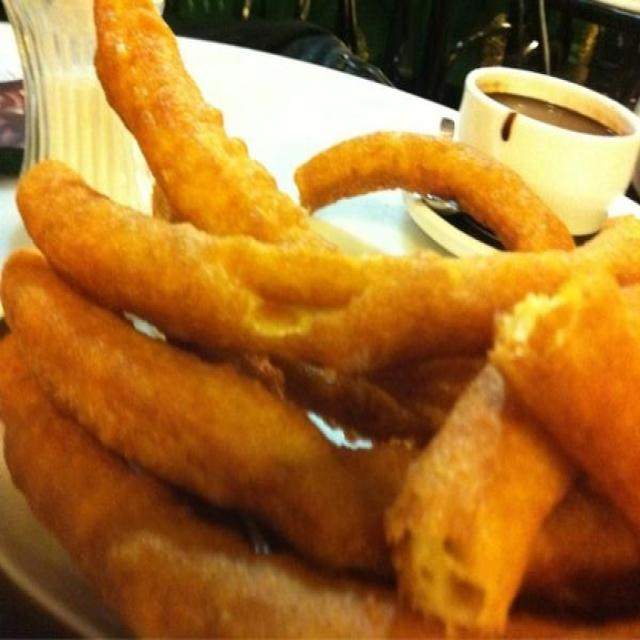炸货点心: (20, 24, 619, 631)
